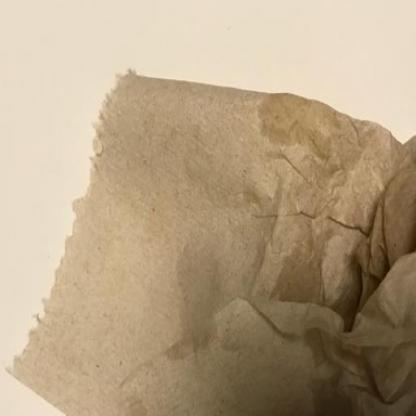trash: (4, 69, 416, 416)
